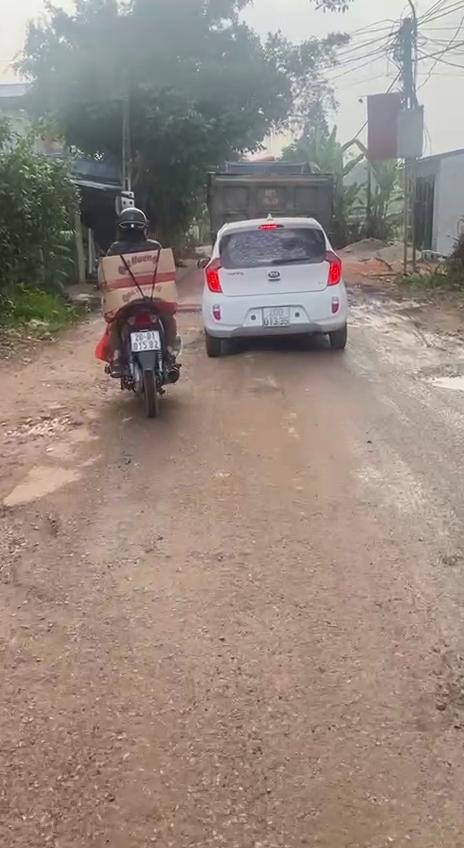pothole: (0, 491, 66, 577), (13, 409, 86, 445), (417, 364, 464, 396)
